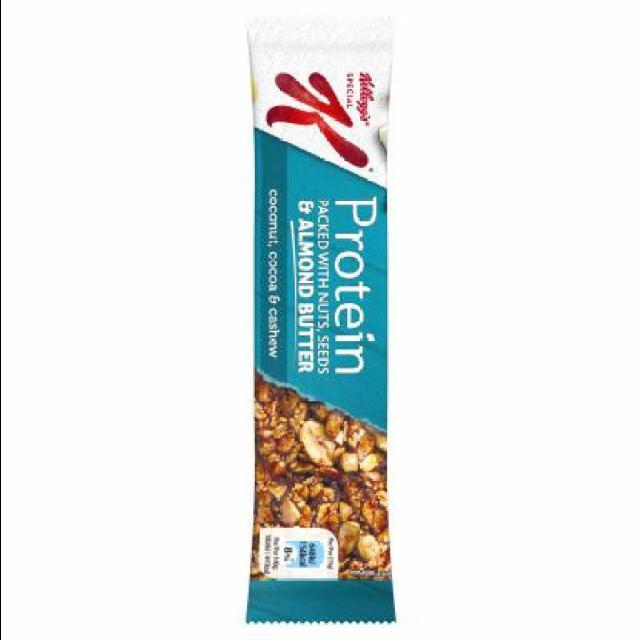Cereal bar: (236, 13, 404, 636)
